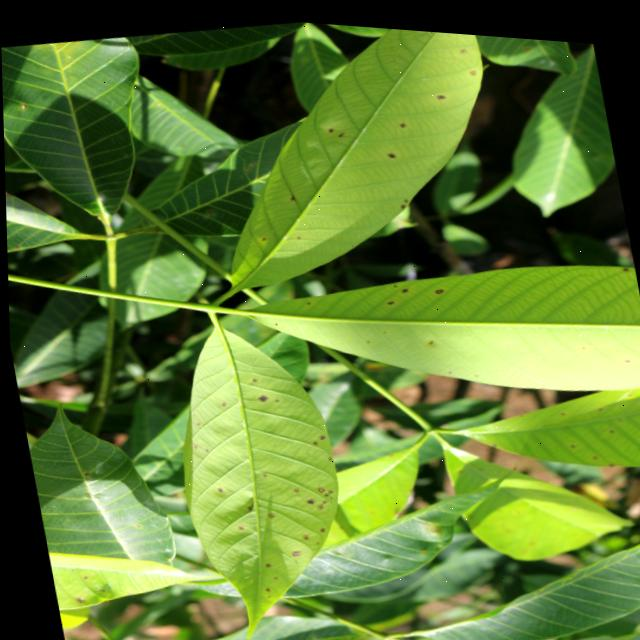Colletotrichum: (433, 281, 443, 287), (314, 482, 321, 487)
